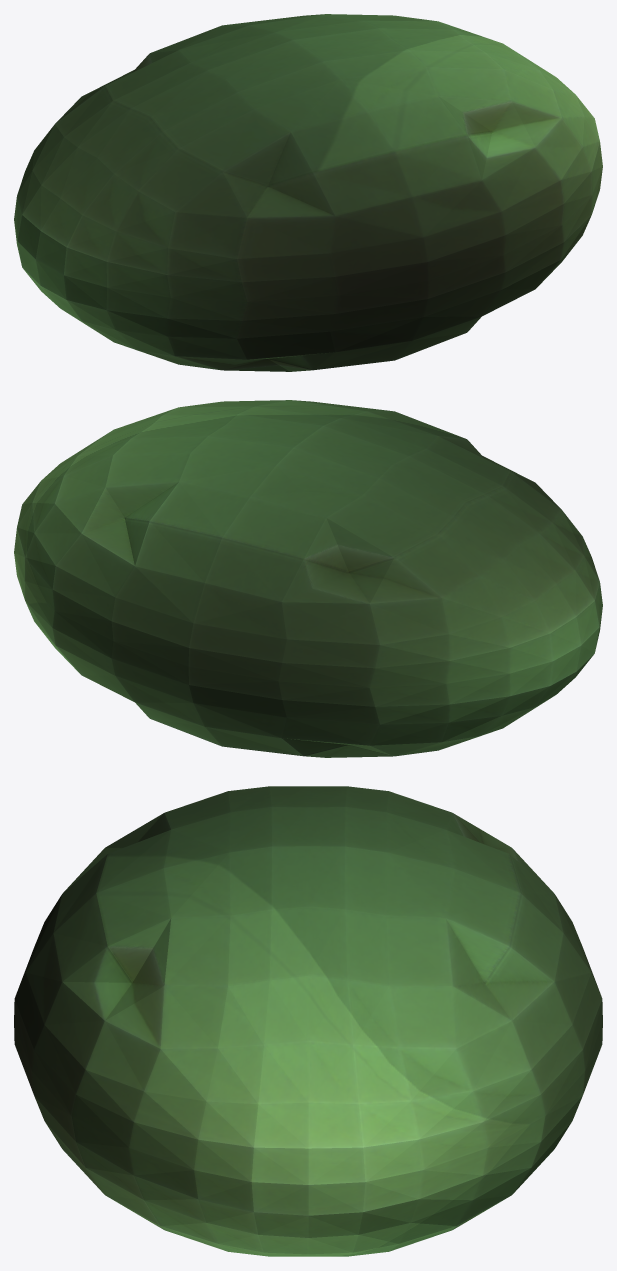
The model's file is pancitogatitoi.dae.
3 views of the same model, one above another, from view 1: azimuth 30°, elevation 25°; view 2: azimuth 150°, elevation 25°; view 3: azimuth 270°, elevation 25° (orthographic). The views are drawn at different scales.
Visible parts, largest first — view 1: Cube; view 2: Cube; view 3: Cube.
Boxes of the visible parts, left/top/right/bottom form: Cube: left=14, top=14, right=602, bottom=371; Cube: left=14, top=400, right=602, bottom=757; Cube: left=14, top=786, right=602, bottom=1256.
Bounding box in the file's own units: 4.46 × 3.39 × 2.22.
Materials: 1 (1 with a texture image).
